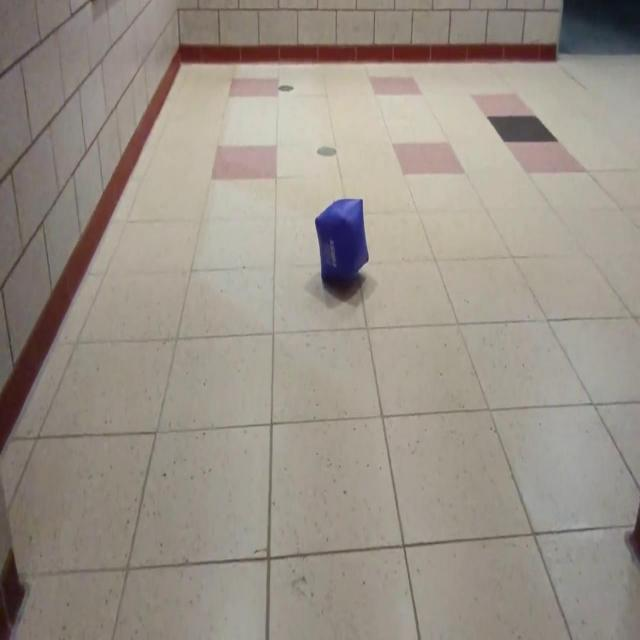frc_cube: (316, 199, 369, 288)
